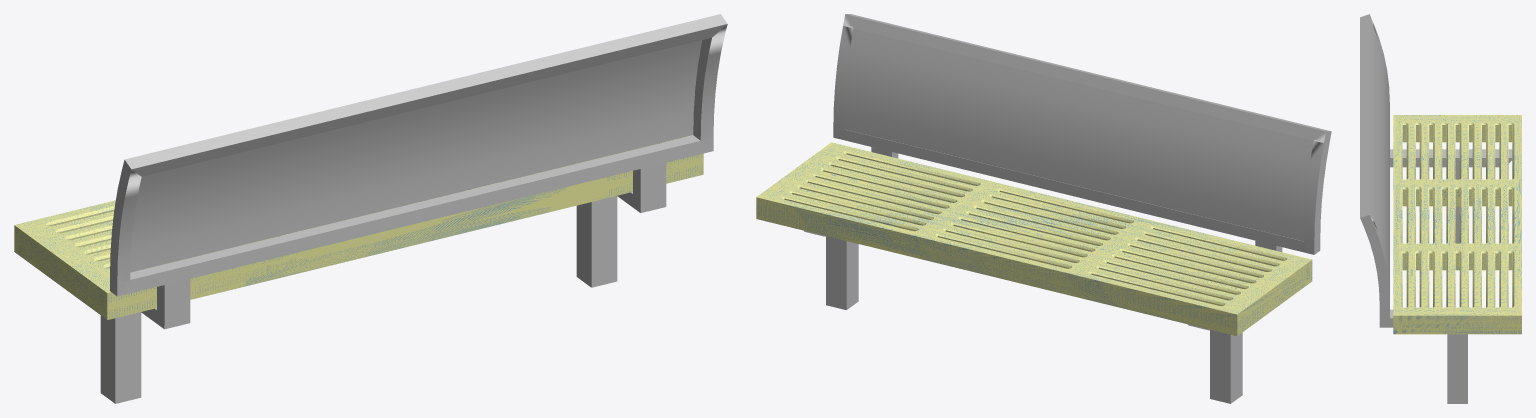
The picture shows the model from 3 angles, left to right: view 1: azimuth 30°, elevation 25°; view 2: azimuth 150°, elevation 25°; view 3: azimuth 270°, elevation 25°; orthographic projection. The views are drawn at different scales.
Visible parts, largest first — view 1: mesh10_mesh10-geometry, mesh8_mesh8-geometry, mesh3_mesh3-geometry, mesh1_mesh1-geometry, mesh11_mesh11-geometry, mesh6_mesh6-geometry, mesh4_mesh4-geometry; view 2: mesh10_mesh10-geometry, mesh3_mesh3-geometry, mesh8_mesh8-geometry, mesh1_mesh1-geometry, mesh6_mesh6-geometry, mesh4_mesh4-geometry; view 3: mesh3_mesh3-geometry, mesh10_mesh10-geometry, mesh8_mesh8-geometry, mesh1_mesh1-geometry, mesh4_mesh4-geometry, mesh11_mesh11-geometry.
Part boxes in pixels (<box>): mesh10_mesh10-geometry: <box>130,40,702,272</box>; mesh8_mesh8-geometry: <box>117,14,727,296</box>; mesh3_mesh3-geometry: <box>14,136,703,319</box>; mesh1_mesh1-geometry: <box>100,196,617,403</box>; mesh11_mesh11-geometry: <box>141,163,666,329</box>; mesh6_mesh6-geometry: <box>110,160,141,296</box>; mesh4_mesh4-geometry: <box>693,24,727,150</box>; mesh10_mesh10-geometry: <box>843,28,1313,241</box>; mesh3_mesh3-geometry: <box>756,142,1312,336</box>; mesh8_mesh8-geometry: <box>834,14,1330,254</box>; mesh1_mesh1-geometry: <box>826,236,1242,403</box>; mesh6_mesh6-geometry: <box>1304,131,1331,254</box>; mesh4_mesh4-geometry: <box>833,14,853,137</box>; mesh3_mesh3-geometry: <box>1393,115,1521,334</box>; mesh10_mesh10-geometry: <box>1373,27,1389,298</box>; mesh8_mesh8-geometry: <box>1360,14,1373,218</box>; mesh1_mesh1-geometry: <box>1447,167,1467,403</box>; mesh4_mesh4-geometry: <box>1360,215,1389,312</box>; mesh11_mesh11-geometry: <box>1379,149,1512,327</box>.
Size of the model in its own units: 0.863 by 0.411 by 0.2938.
